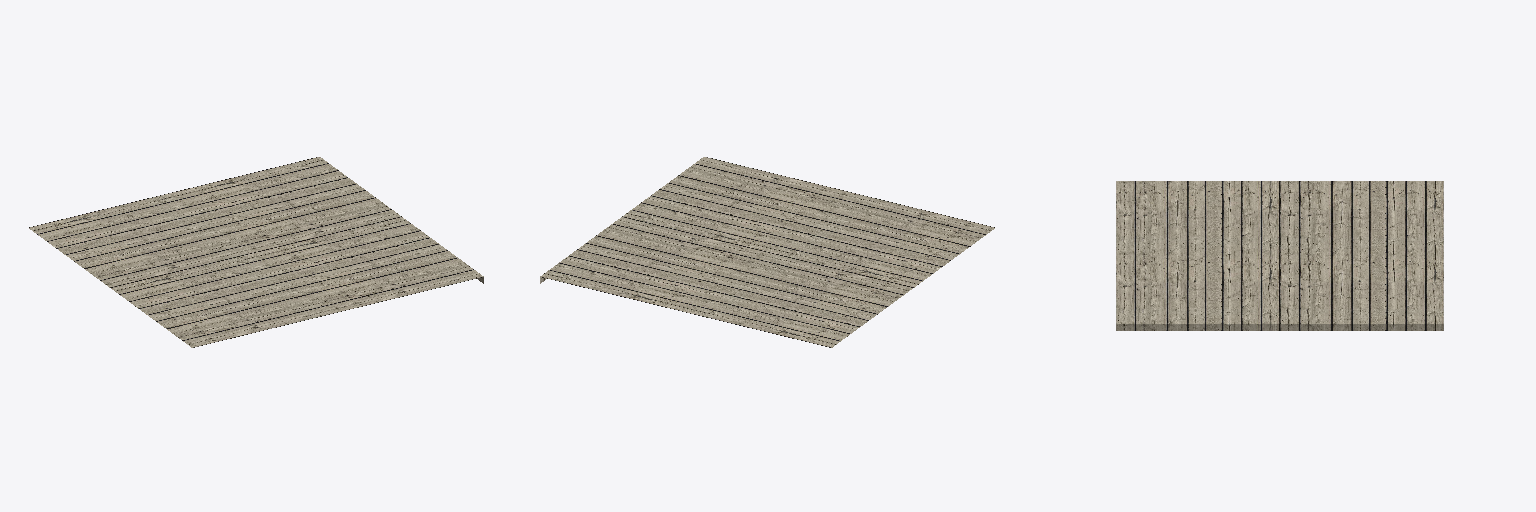
The picture shows the model from 3 angles: view 1: azimuth 30°, elevation 25°; view 2: azimuth 150°, elevation 25°; view 3: azimuth 270°, elevation 25°; orthographic projection.
Parts seen in each view (by area): view 1: ShedFloor_Plane.004; view 2: ShedFloor_Plane.004; view 3: ShedFloor_Plane.004.
Part boxes in pixels (x1,y1,x2,y2): ShedFloor_Plane.004: (29, 157, 483, 347); ShedFloor_Plane.004: (540, 157, 994, 347); ShedFloor_Plane.004: (1116, 181, 1443, 330).
Size of the model in its own units: 2.05 by 0.05 by 2.
1 materials, 1 textured.